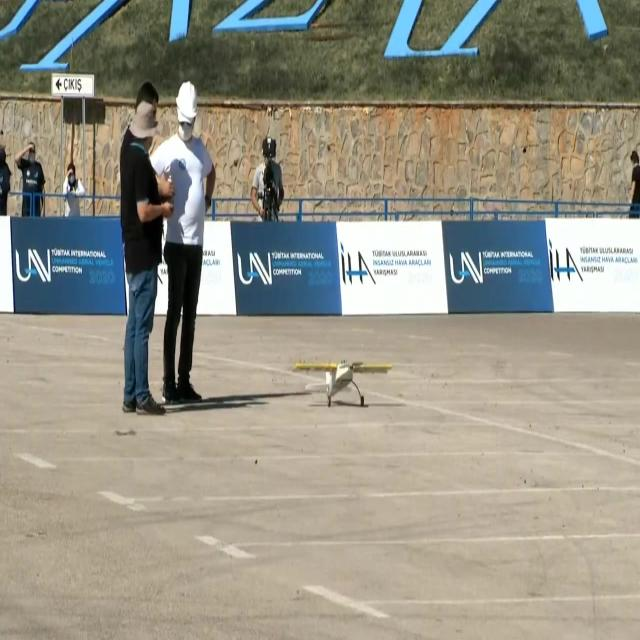iha: (324, 357, 362, 410)
